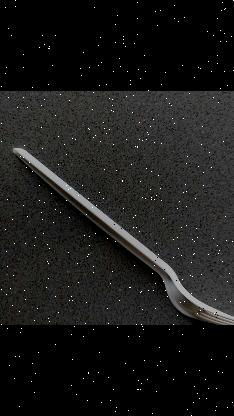Others: (0, 141, 234, 324)
